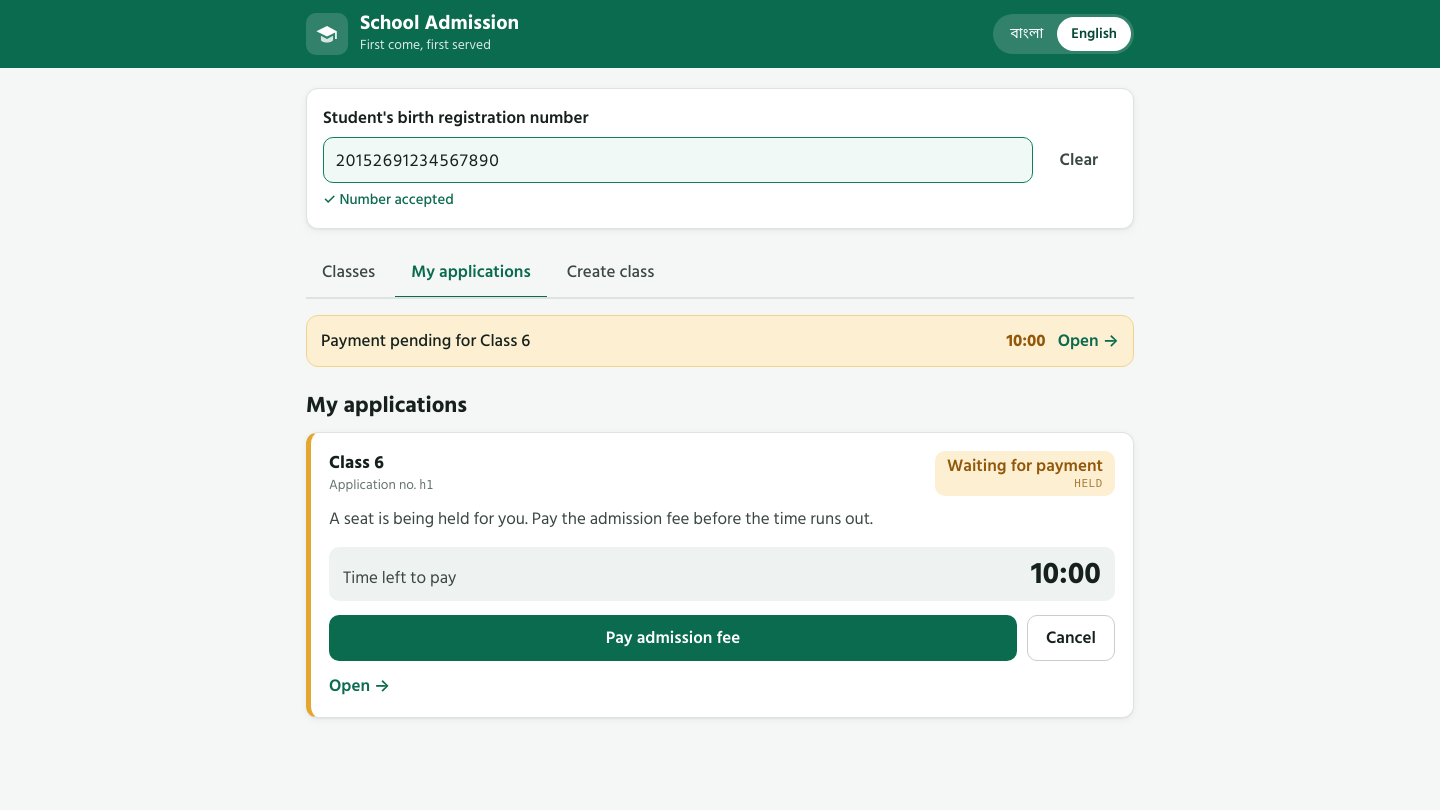
Test: applying and paying › asks before cancelling, then cancels and frees the seat
The width and height of the screenshot is (1440, 810).
Click the button "Cancel" at (1071, 638), box [1027, 615, 1115, 661]
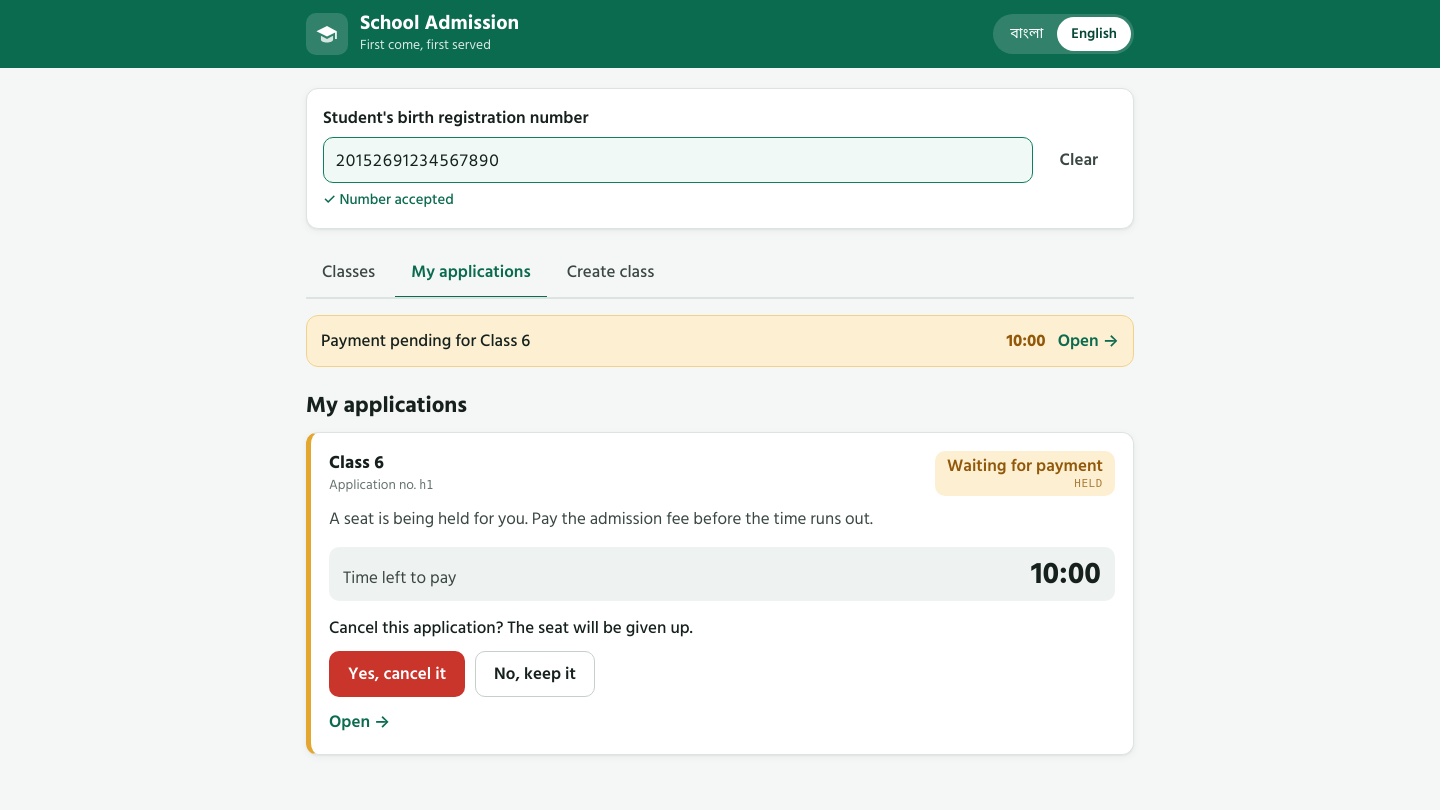
Expected: the text "HELD" is shown, [1074, 477, 1103, 491]
Click the button "Yes, cancel it" at (397, 674), box [329, 651, 465, 697]
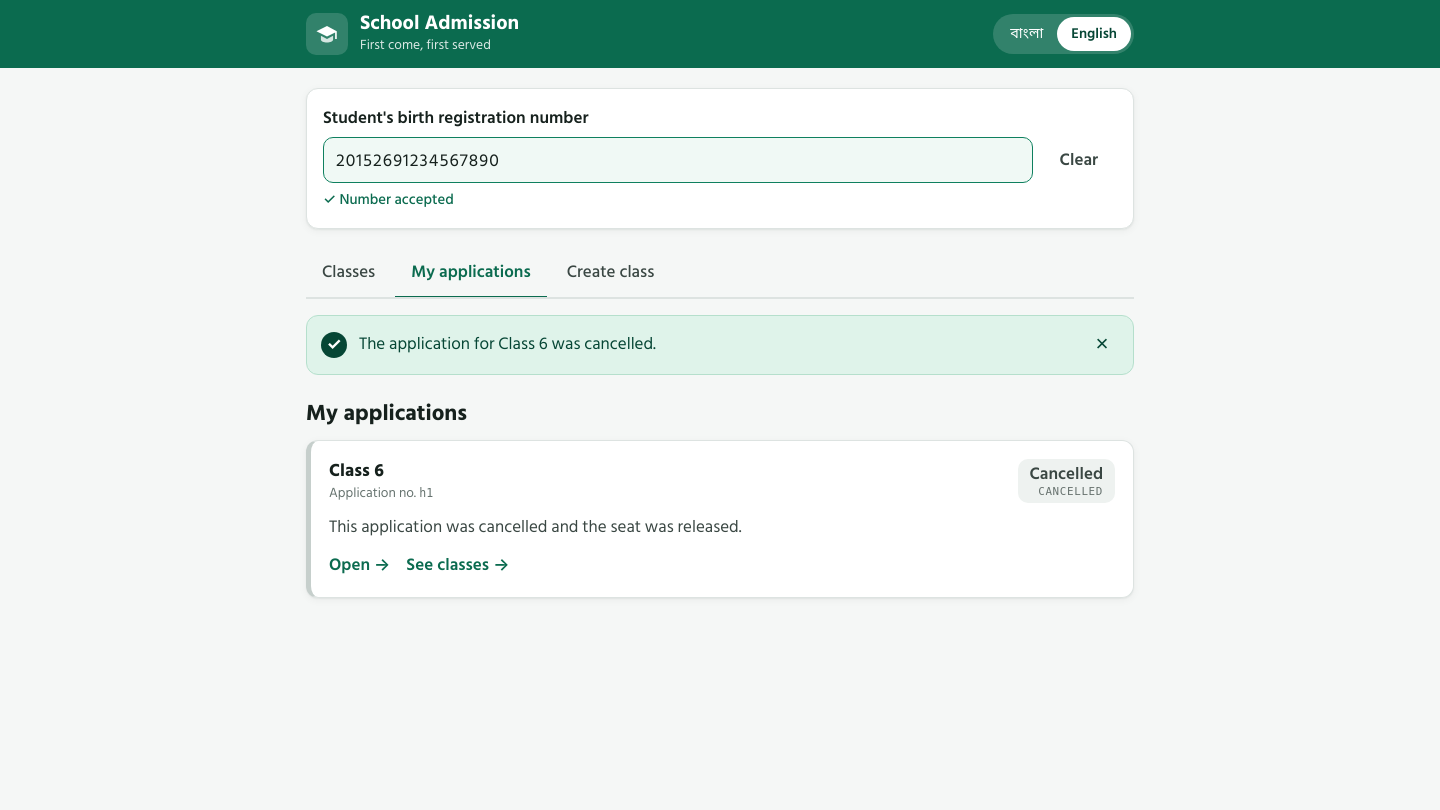
Now the text "CANCELLED" is shown, box [1038, 485, 1103, 498]
